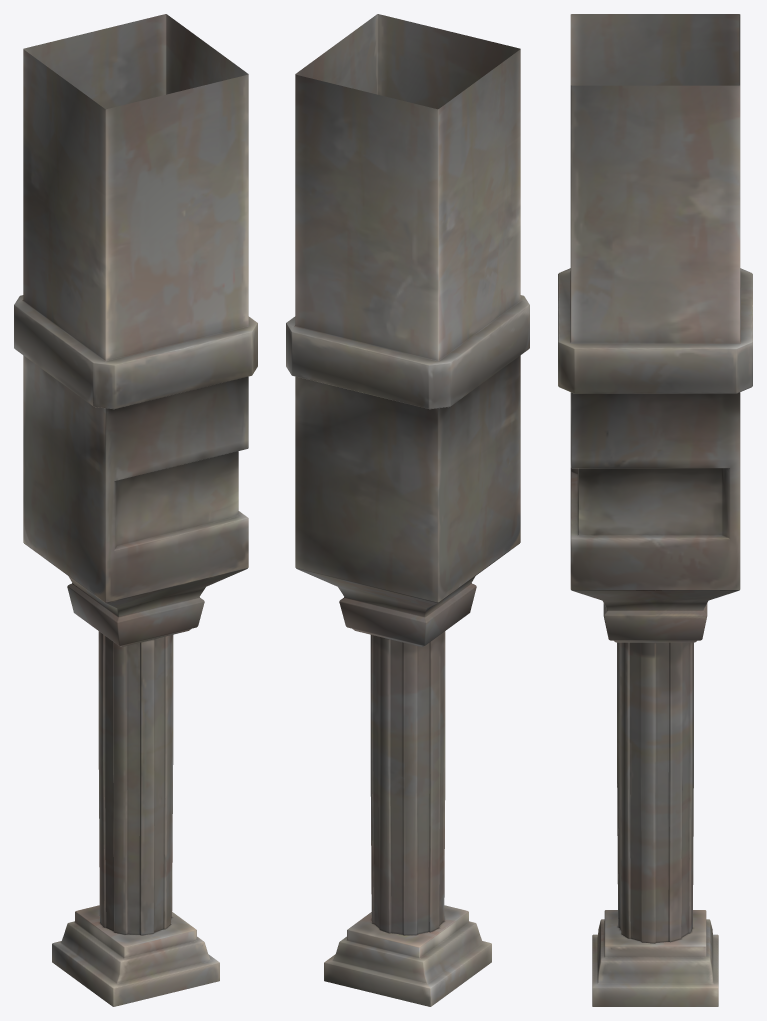
Rendered from Pillar.fbx.
The picture shows the model from 3 angles, left to right: view 1: azimuth 30°, elevation 25°; view 2: azimuth 150°, elevation 25°; view 3: azimuth 270°, elevation 25°; orthographic projection. The views are drawn at different scales.
Visible parts, largest first — view 1: Pillar; view 2: Pillar; view 3: Pillar.
Part boxes in pixels (box(x1,y1,x2,y2)): Pillar: box(14, 14, 257, 1006); Pillar: box(286, 14, 529, 1006); Pillar: box(558, 14, 752, 1006).
Size of the model in its own units: 344 by 1812 by 344.
